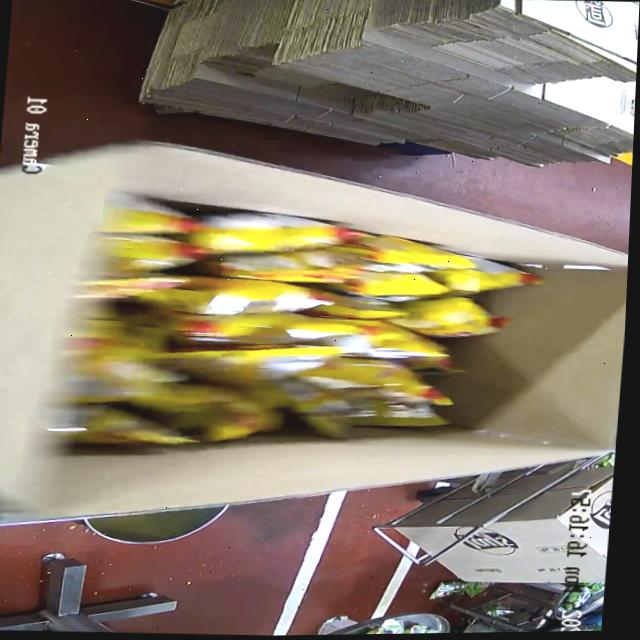SALTED: (78, 191, 510, 457)
